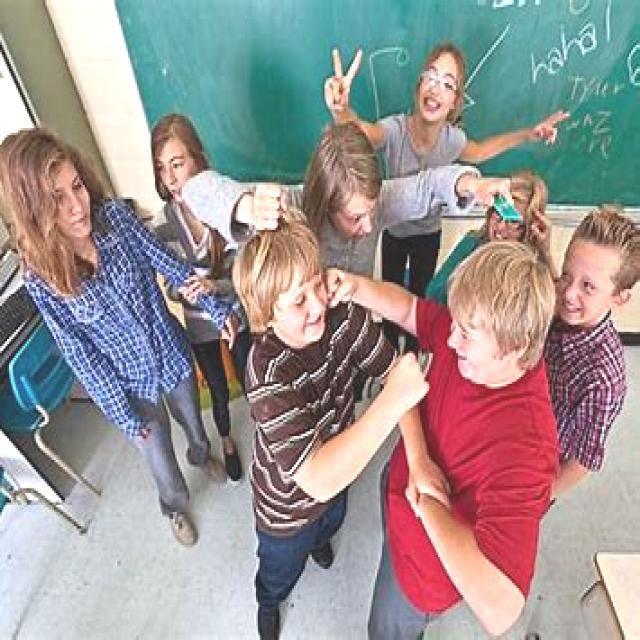fight: (175, 90, 612, 527)
